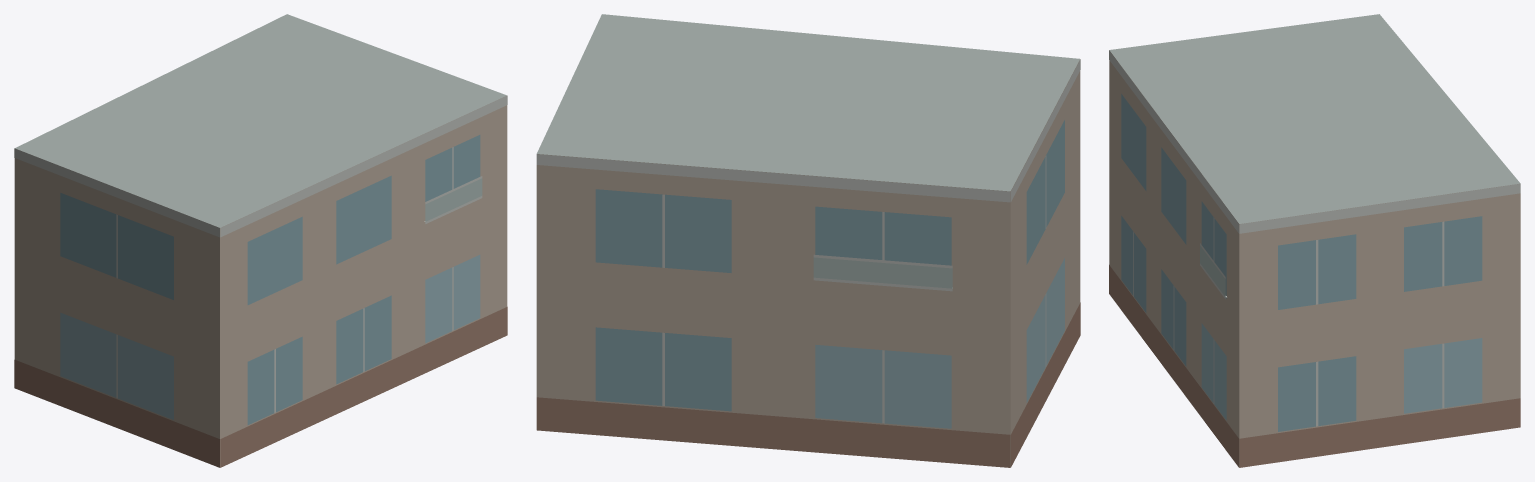
Rendered from survey-upis-32887779.glb.
The picture shows the model from 3 angles, left to right: view 1: azimuth 30°, elevation 25°; view 2: azimuth 150°, elevation 25°; view 3: azimuth 270°, elevation 25°; orthographic projection. The views are drawn at different scales.
Visible parts, largest first — view 1: survey-upis-32887779.tmp; view 2: survey-upis-32887779.tmp; view 3: survey-upis-32887779.tmp.
Boxes of the visible parts, x1=… form: survey-upis-32887779.tmp: x1=14, y1=14, x2=507, y2=467; survey-upis-32887779.tmp: x1=536, y1=14, x2=1080, y2=467; survey-upis-32887779.tmp: x1=1109, y1=14, x2=1520, y2=467.
Size of the model in its own units: 11.29 by 6.1 by 9.34.
